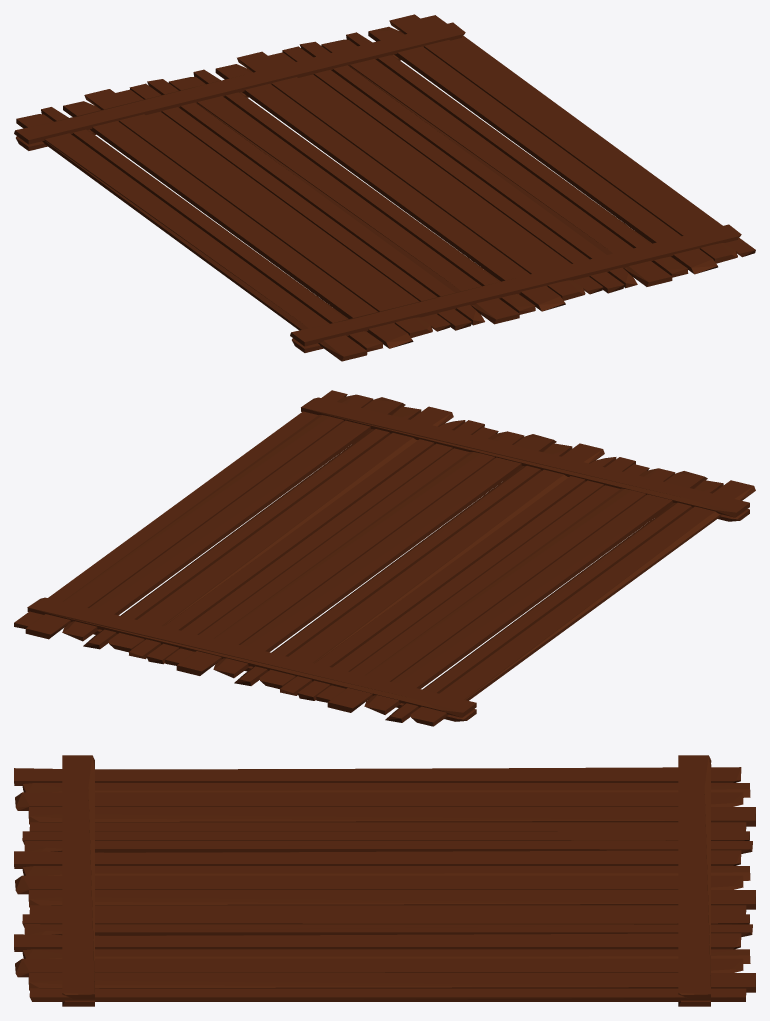
File: SM_gate_seperated.fbx
3 views of the same model, one above another, from view 1: azimuth 30°, elevation 25°; view 2: azimuth 150°, elevation 25°; view 3: azimuth 270°, elevation 25° (orthographic). The views are drawn at different scales.
Parts seen in each view (by area): view 1: Object296; view 2: Object296; view 3: Object296.
Part boxes in pixels (x1,y1,x2,y2): Object296: [14, 14, 755, 361]; Object296: [14, 390, 755, 726]; Object296: [14, 755, 755, 1006].
Bounding box in the file's own units: 198 × 260 × 4.8.
